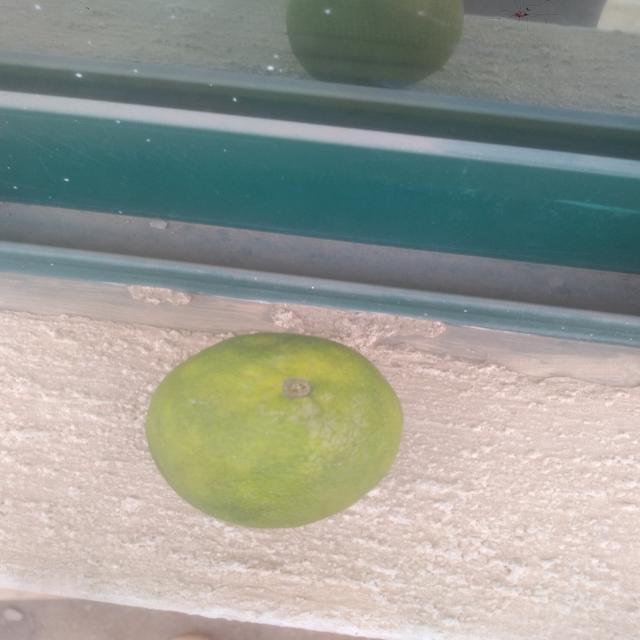agrume: (134, 299, 417, 556)
